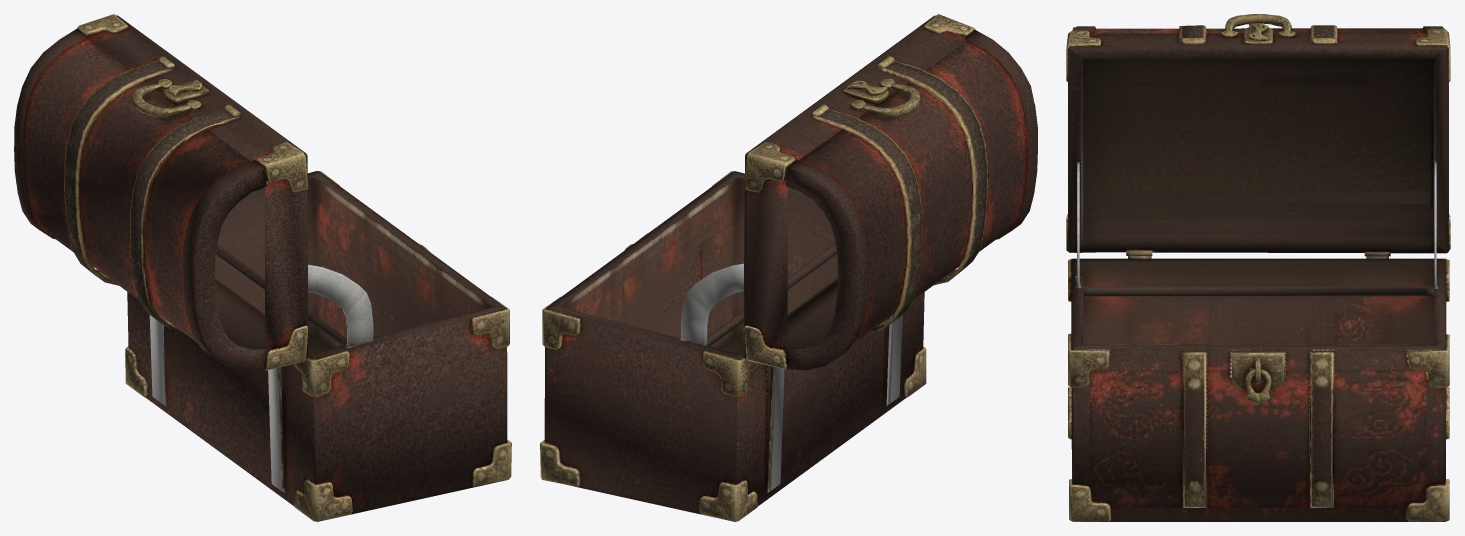
The model's file is tripo_convert_5833946d-ac7a-49c2-8f93-b1da70214cf4.fbx.
The picture shows the model from 3 angles, left to right: view 1: azimuth 30°, elevation 25°; view 2: azimuth 150°, elevation 25°; view 3: azimuth 270°, elevation 25°; orthographic projection.
Visible parts, largest first — view 1: tripo_node_5833946d; view 2: tripo_node_5833946d; view 3: tripo_node_5833946d.
Part boxes in pixels (<box>): tripo_node_5833946d: <box>14,14,511,521</box>; tripo_node_5833946d: <box>540,14,1037,521</box>; tripo_node_5833946d: <box>1066,14,1450,521</box>.
Bounding box in the file's own units: 0.8926 × 0.998 × 0.916.
Materials: 1 (1 with a texture image).
